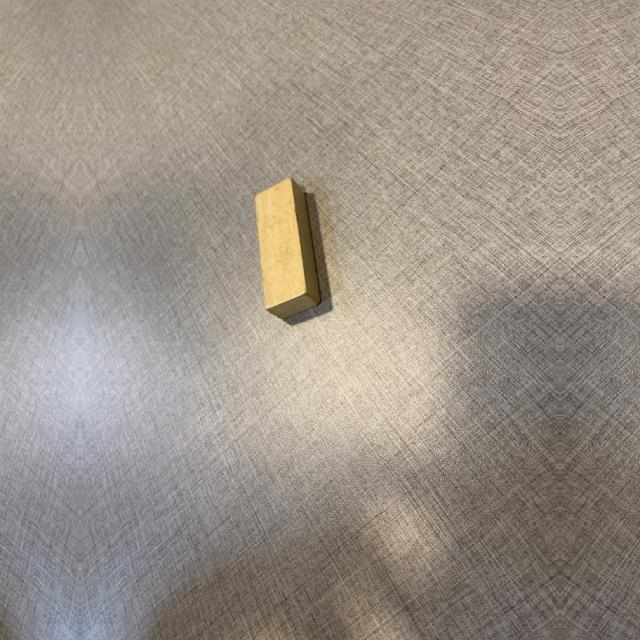jenga: (254, 179, 323, 321)
